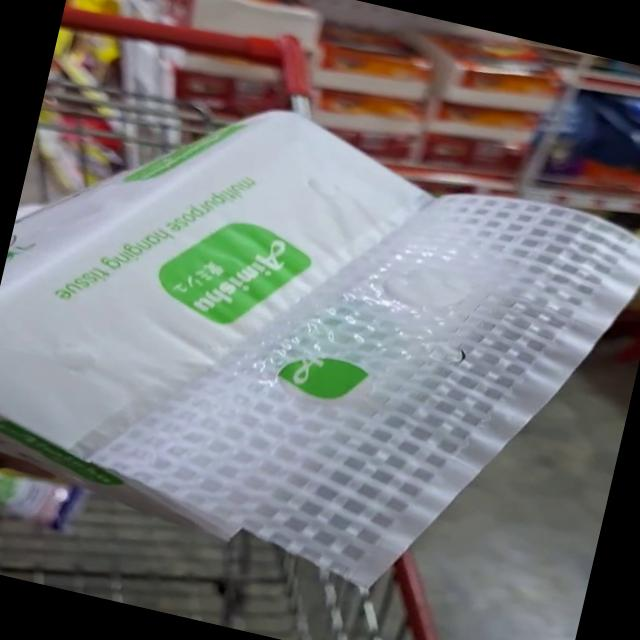Tisu: (0, 206, 544, 630), (81, 69, 640, 406)
